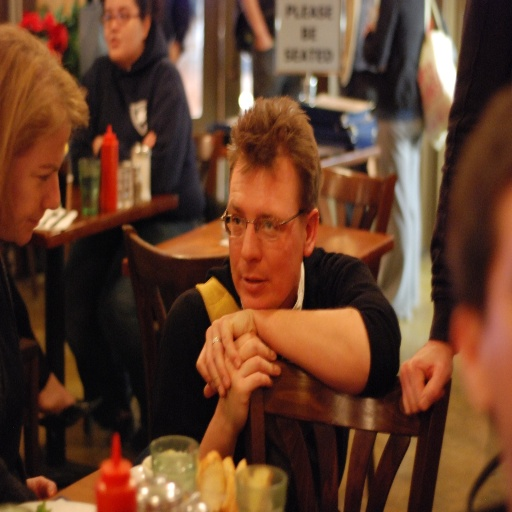hand: (219, 329, 282, 430), (397, 332, 457, 433), (196, 307, 256, 398), (27, 474, 56, 497), (254, 32, 274, 48), (141, 131, 157, 148), (92, 134, 103, 155)
